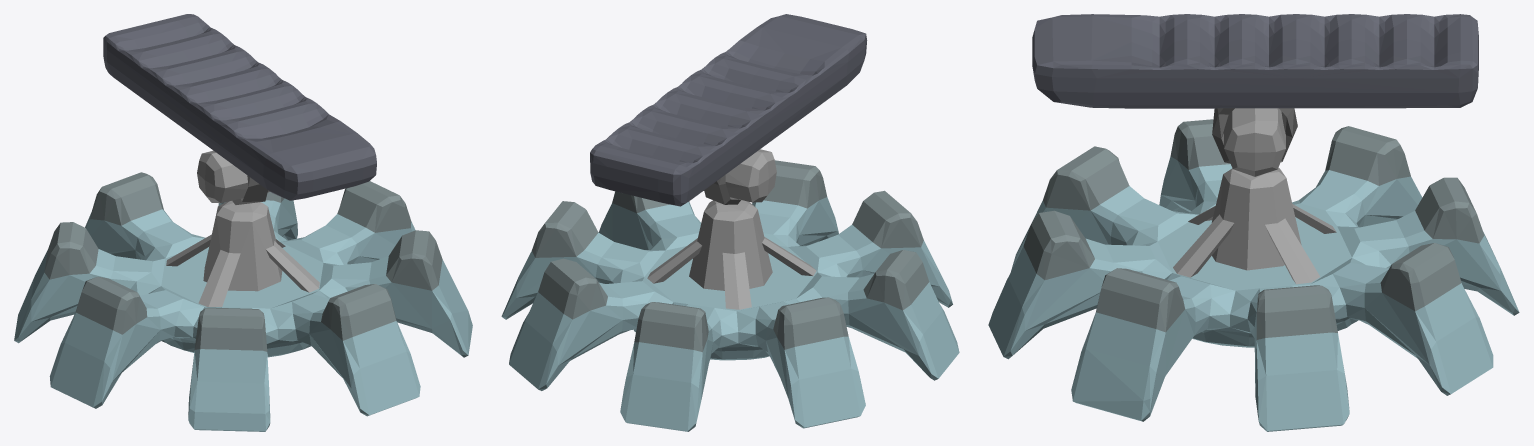
Rendered from rocketlauncher_level2.fbx.
3 renders of one model, left to right at view 1: azimuth 30°, elevation 25°; view 2: azimuth 150°, elevation 25°; view 3: azimuth 270°, elevation 25°, orthographic. The views are drawn at different scales.
Visible parts, largest first — view 1: powersupply.002, settlement_place.001, holder2.001, holder3.001, holder.001; view 2: powersupply.002, settlement_place.001, holder2.001, holder3.001, holder.001; view 3: powersupply.002, settlement_place.001, holder2.001, holder3.001, holder.001.
Part boxes in pixels (left/top/right/bottom): powersupply.002: left=14, top=172, right=472, bottom=431; settlement_place.001: left=103, top=14, right=376, bottom=200; holder2.001: left=166, top=201, right=319, bottom=306; holder3.001: left=197, top=150, right=269, bottom=203; holder.001: left=232, top=175, right=267, bottom=204; powersupply.002: left=501, top=160, right=959, bottom=431; settlement_place.001: left=590, top=14, right=867, bottom=206; holder2.001: left=647, top=200, right=816, bottom=309; holder3.001: left=704, top=149, right=776, bottom=202; holder.001: left=704, top=175, right=740, bottom=204; powersupply.002: left=988, top=119, right=1519, bottom=431; settlement_place.001: left=1032, top=14, right=1478, bottom=108; holder2.001: left=1173, top=168, right=1336, bottom=284; holder3.001: left=1224, top=108, right=1285, bottom=176; holder.001: left=1212, top=108, right=1297, bottom=163.
Bounding box in the file's own units: 73.98 × 43.54 × 73.94.
